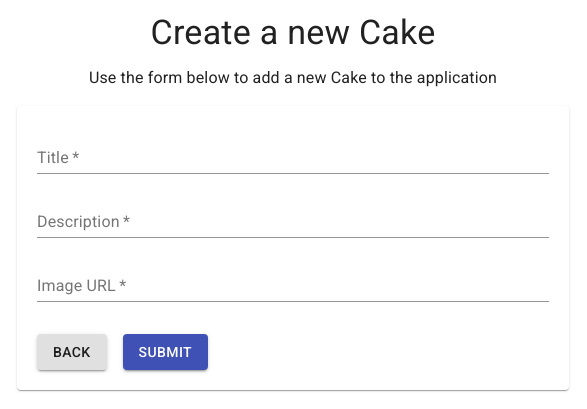
progress indicator shown during submit
The width and height of the screenshot is (587, 409).
submit form
Click the button "Submit". click: (165, 352)
box: [123,334,208,370]
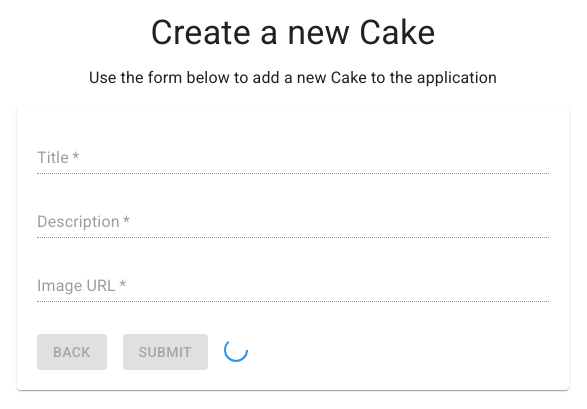
Expected: the progress indicator is shown, [224,338,248,362]
